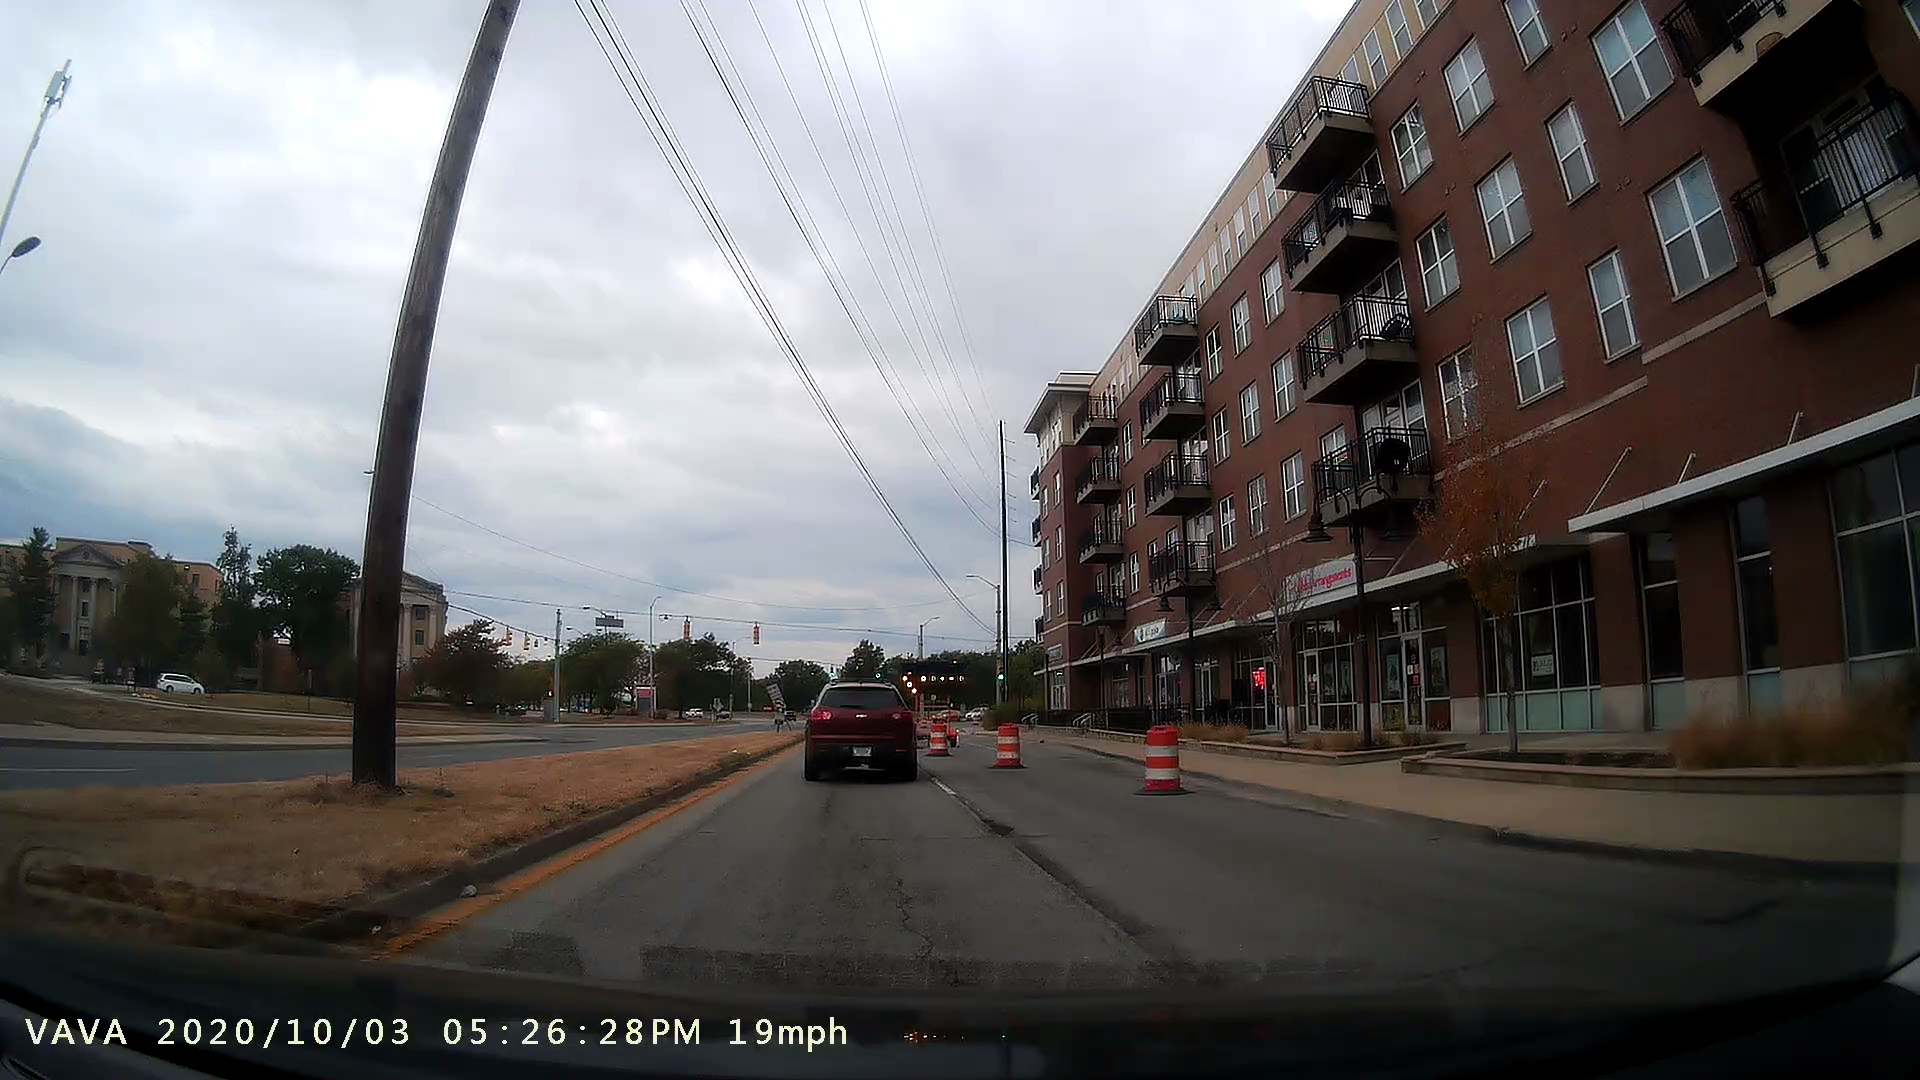const_barrel: (1131, 713, 1197, 803), (984, 713, 1026, 775)
